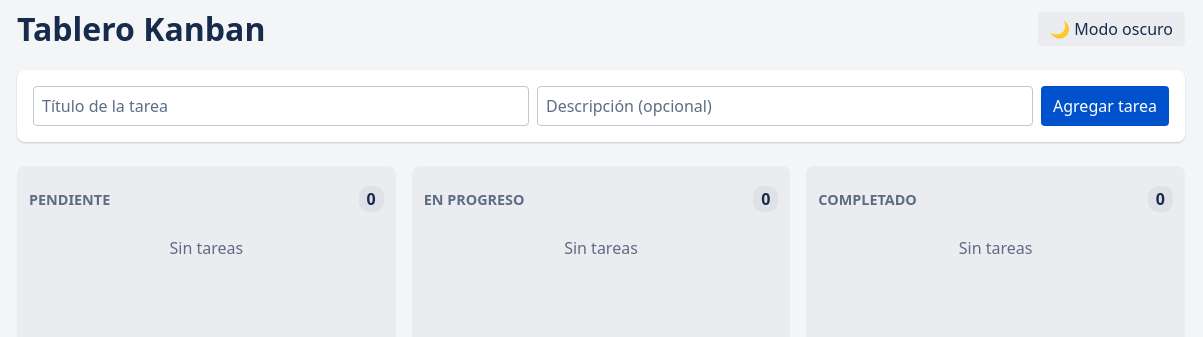
Scenario: App Kanban (interfaz) › mueve una tarea a Completado y luego la elimina
Step 1. Type "Deploy" into the field labelled "Título" → [281, 106], box top-left (33, 86), bottom-right (529, 126)
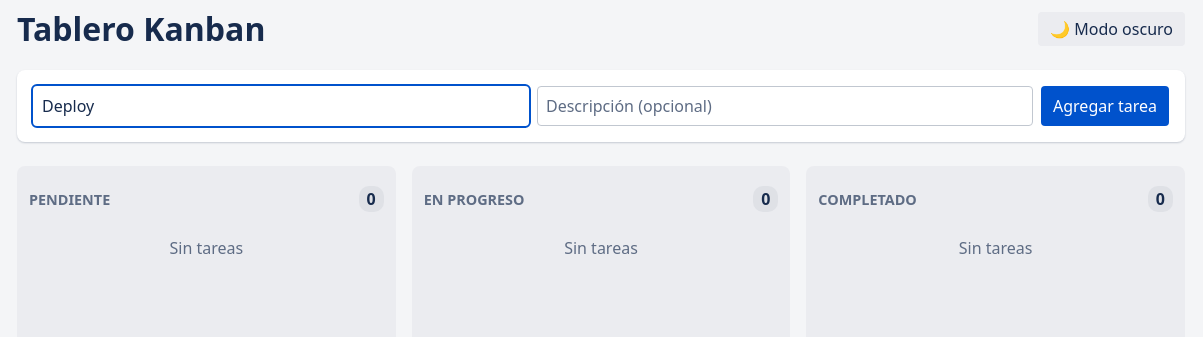
Step 2. Click the button "Agregar tarea" → [1105, 106], box top-left (1041, 86), bottom-right (1169, 126)
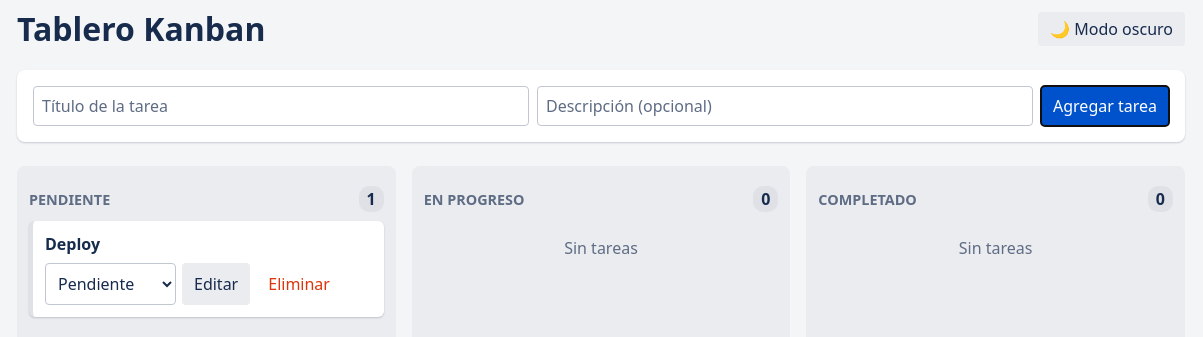
Step 3. Select "Completado" in the dropdown named "Estado de Deploy" → [110, 284], box top-left (45, 263), bottom-right (176, 305)
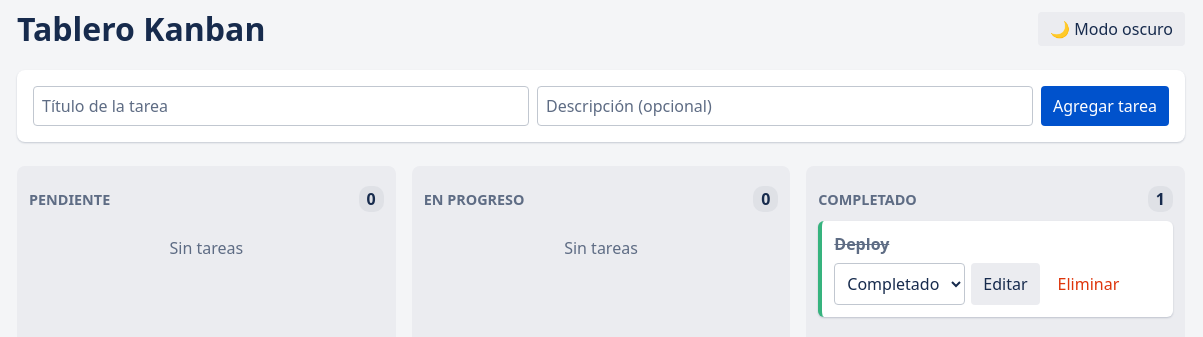
Result: the heading "Deploy" is shown at top-left (834, 233), bottom-right (889, 255)
Step 4. Click the button "Eliminar" → [1088, 284], box top-left (1046, 263), bottom-right (1131, 305)
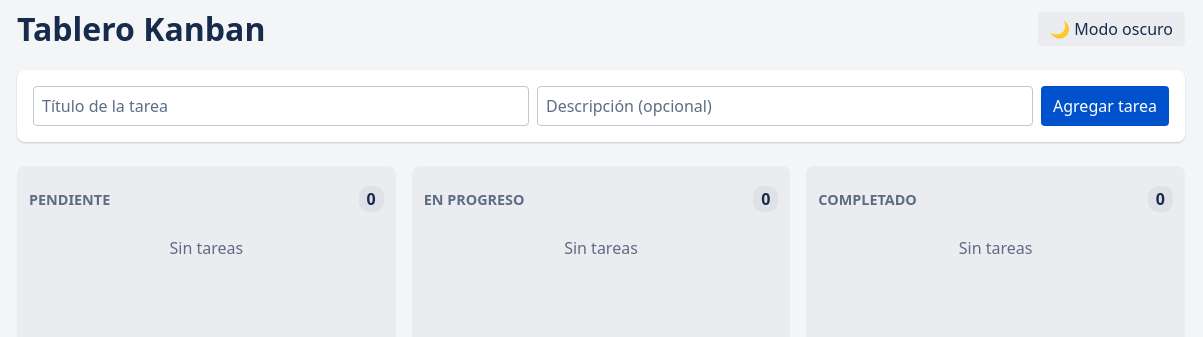
Result: the heading "Deploy" is gone
